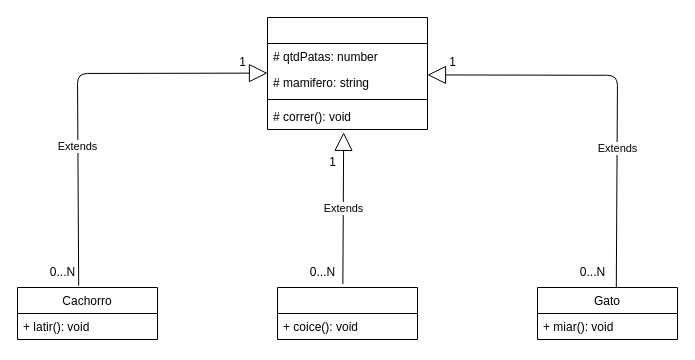
This 695x360 diagram has some shape labels left out. Each missing label, with the box of its shape:
Animal: (266, 16, 428, 130)
Cavalo: (276, 286, 418, 340)
